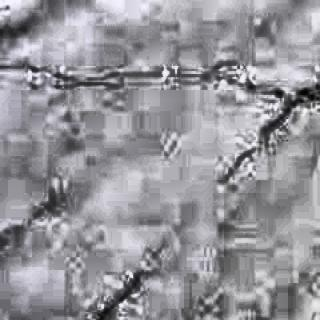pothole: (2, 52, 320, 111)
